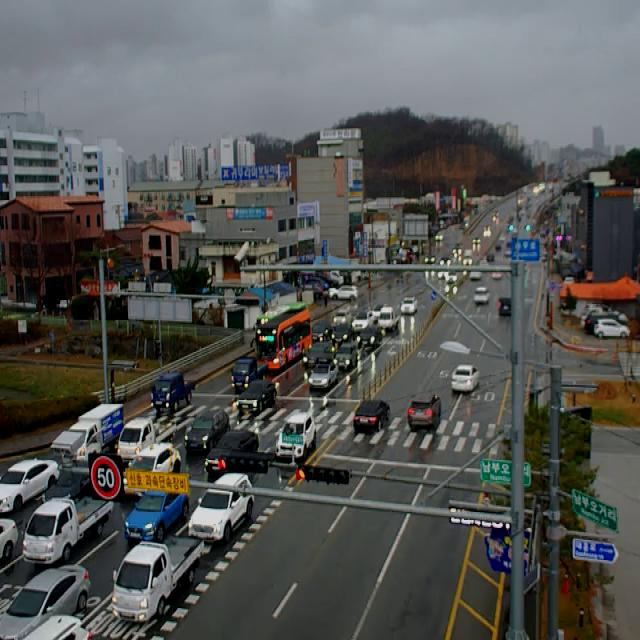Bus: (250, 309, 312, 370), (253, 302, 306, 331)
Car: (0, 565, 91, 640), (188, 474, 254, 542), (124, 491, 189, 542), (0, 458, 60, 512), (123, 443, 181, 497), (117, 418, 176, 461), (205, 431, 259, 473), (276, 412, 316, 460), (184, 410, 230, 451), (22, 615, 92, 640), (237, 378, 277, 412), (408, 392, 442, 430), (353, 400, 391, 431), (232, 357, 268, 388), (581, 305, 629, 328), (585, 310, 627, 332), (0, 518, 19, 560), (303, 342, 334, 367), (309, 363, 338, 389), (452, 365, 479, 392), (594, 319, 630, 339), (333, 344, 357, 370), (357, 326, 382, 350), (312, 320, 333, 342), (329, 285, 358, 299), (332, 325, 354, 343), (352, 312, 373, 330), (305, 285, 324, 301), (401, 297, 417, 315), (474, 287, 490, 305), (306, 278, 328, 291), (333, 310, 350, 326), (373, 304, 387, 323), (498, 298, 511, 316), (463, 250, 473, 266), (452, 243, 463, 255), (470, 269, 482, 280), (446, 272, 457, 283), (483, 226, 492, 237), (440, 258, 452, 266), (492, 272, 503, 280), (424, 256, 436, 263), (438, 272, 448, 280), (494, 242, 502, 252), (487, 253, 495, 263), (472, 237, 481, 244), (499, 233, 506, 242), (435, 234, 444, 240)
Truck: (111, 536, 205, 622), (21, 494, 114, 564), (68, 404, 124, 458), (151, 373, 195, 411), (378, 307, 400, 331)
